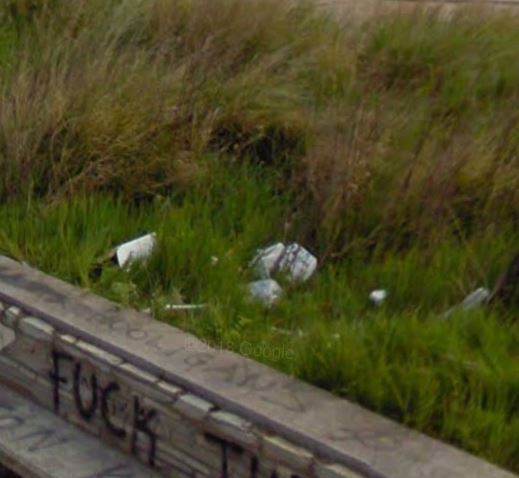trash: (226, 230, 322, 307), (90, 223, 171, 281), (421, 281, 495, 328), (358, 281, 395, 313)
